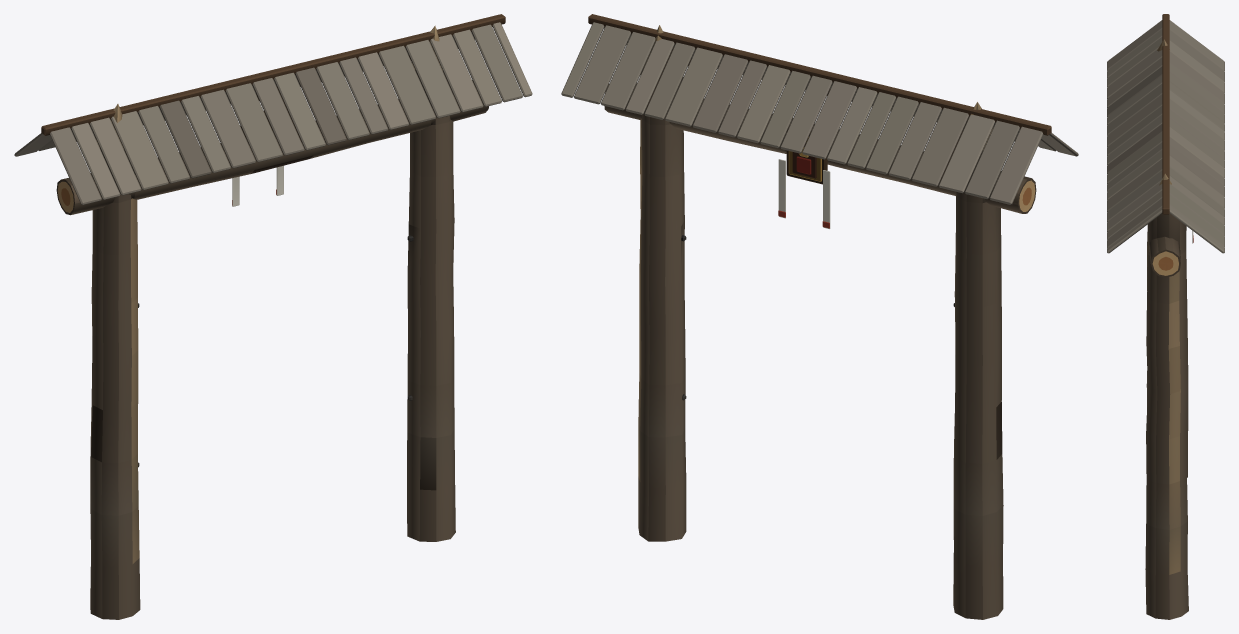
The model's file is gate_frame.glb.
3 views of the same model, side by side, from view 1: azimuth 30°, elevation 25°; view 2: azimuth 150°, elevation 25°; view 3: azimuth 270°, elevation 25° (orthographic). The views are drawn at different scales.
Parts seen in each view (by area): view 1: plank-001, log-001, log-002, log-003; view 2: plank-001, log-001, log-002, log-003, dark-icon-001, cloth-towel-001; view 3: plank-001, log-002, log-003, log-001.
Boxes of the visible parts, x1,y1,x2,y2 form: plank-001: (14,14,532,205); log-001: (90,104,140,619); log-002: (407,25,455,541); log-003: (56,80,488,215); plank-001: (561,14,1078,204); log-001: (953,102,1003,619); log-002: (638,25,686,541); log-003: (604,83,1036,213); dark-icon-001: (786,126,827,184); cloth-towel-001: (778,159,830,228); plank-001: (1107,14,1224,253); log-002: (1145,173,1188,619); log-003: (1147,224,1180,277); log-001: (1146,39,1188,477).
Bounding box in the file's own units: 5 × 5.25 × 1.28.
